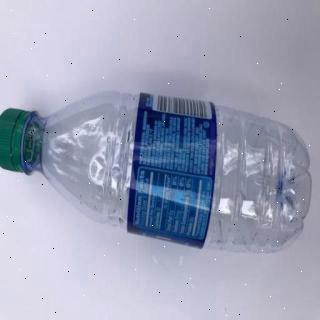Plastic-bottle: (1, 90, 313, 254)
